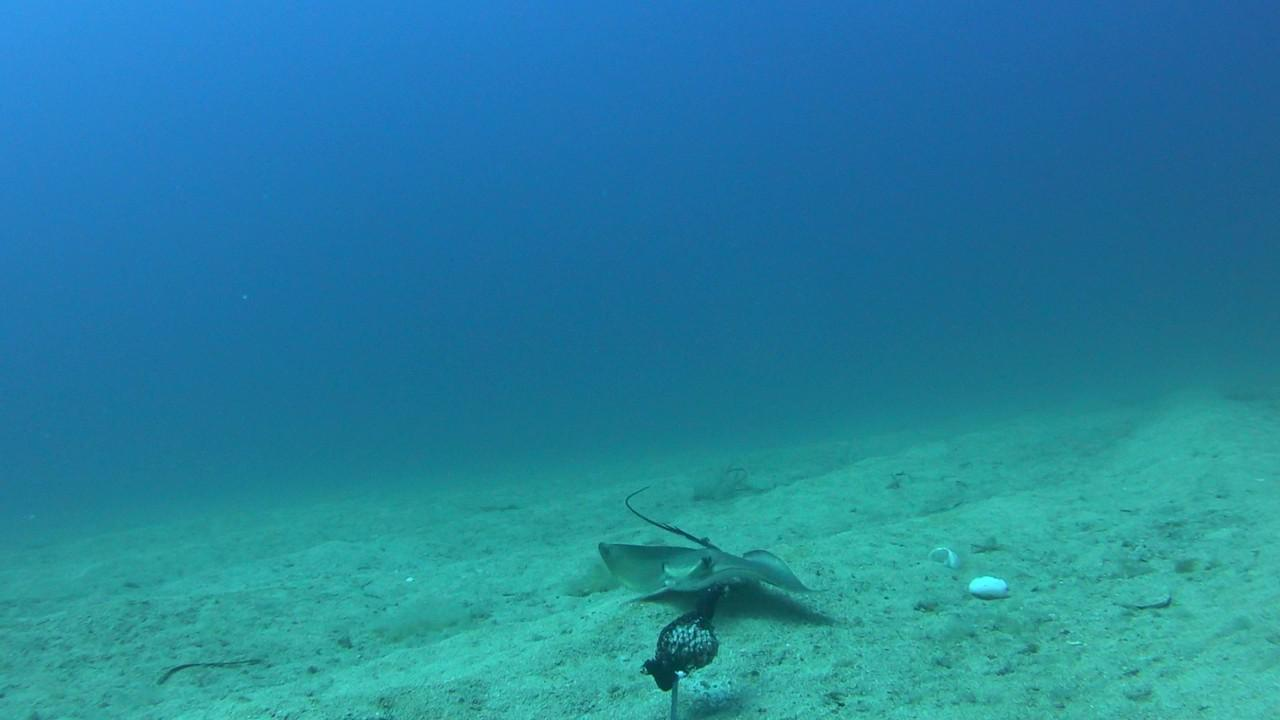myliobatis: (595, 478, 832, 608)
